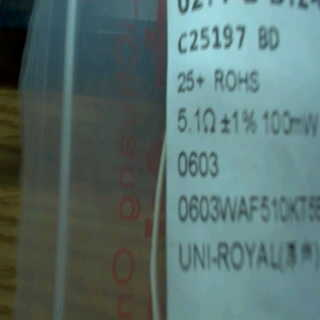5.1R: (174, 101, 219, 141)
